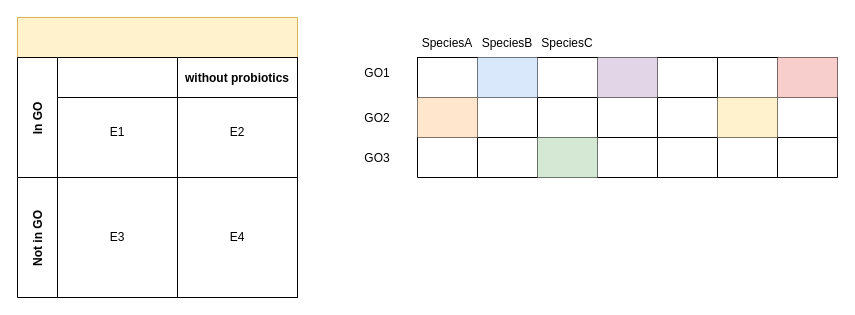
This 855x315 diagram has some shape labels left out. The box of each missing label's shape, as (x1, y1, x2, y2) in pixels:
Have probiotics: (56, 56, 178, 178)
Node fisher exact test: (16, 16, 298, 298)
